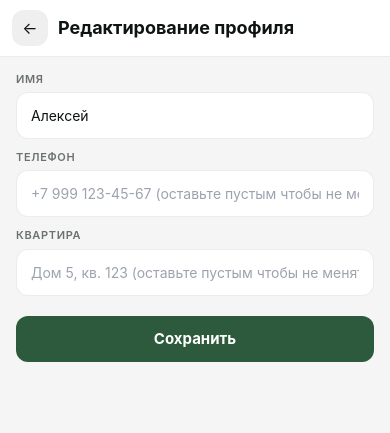
Test: EditProfileScreen › успешный submit вызывает PATCH /users/me и показывает success
This screenshot has width=390, height=433.
Expected: the field with test id "input-display-name" holds "Алексей", 16,92 -> 374,139
Type "+79991234567" into the field with test id "input-phone".
click(195, 194); type("+79991234567")  # box 16,170 -> 374,217
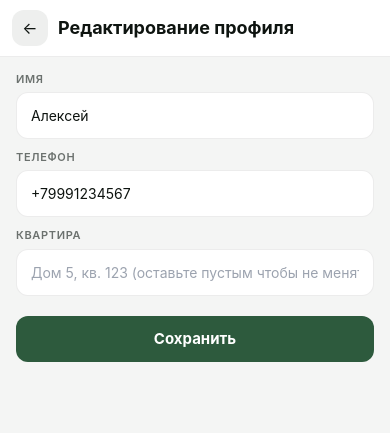
Type "Дом 5, кв. 7" into the field with test id "input-apt".
click(195, 272); type("Дом 5, кв. 7")  # box 16,249 -> 374,296
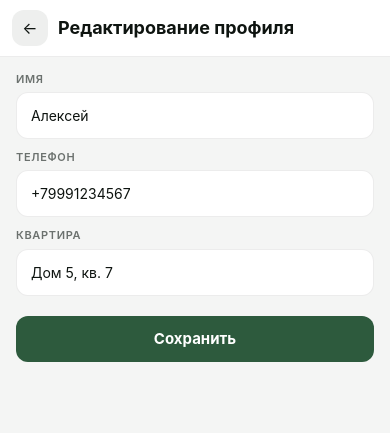
Click the button with test id "submit-btn".
click(195, 339)  # box 16,316 -> 374,362
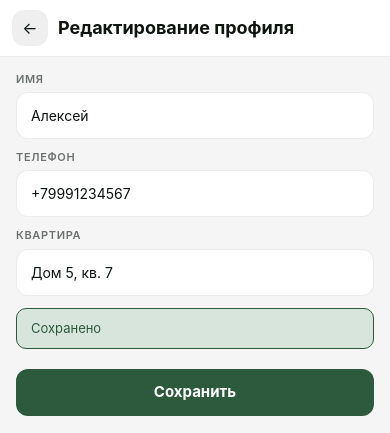
Now the text with test id "form-success" reads "Сохранено", box 31,320 -> 101,336
